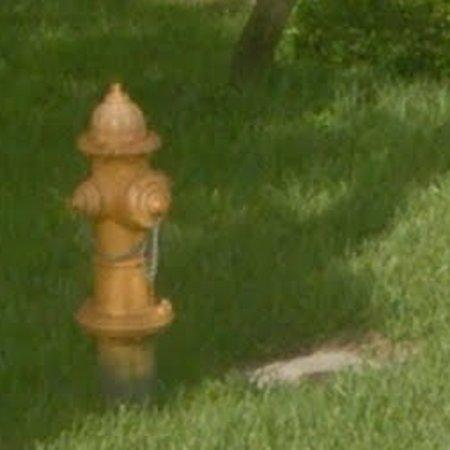a fire hydrant: (71, 83, 174, 338)
